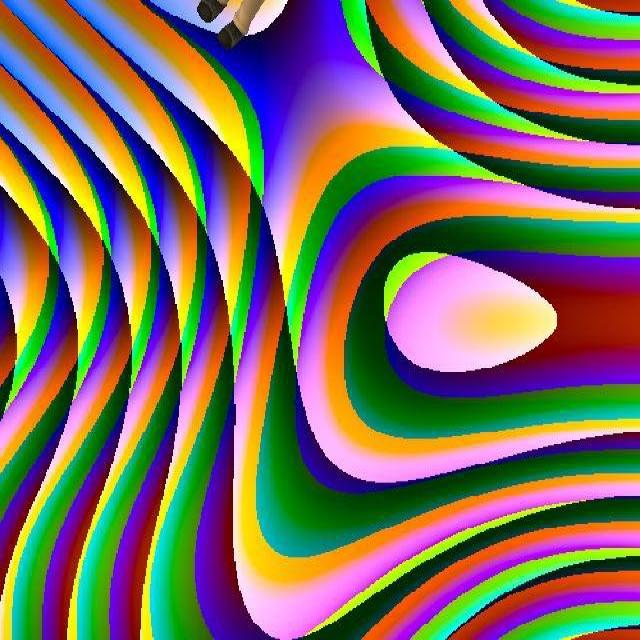obstacle: (194, 0, 266, 55)
